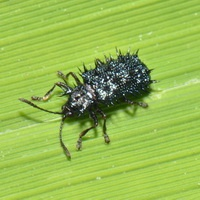insect: (19, 49, 155, 159)
